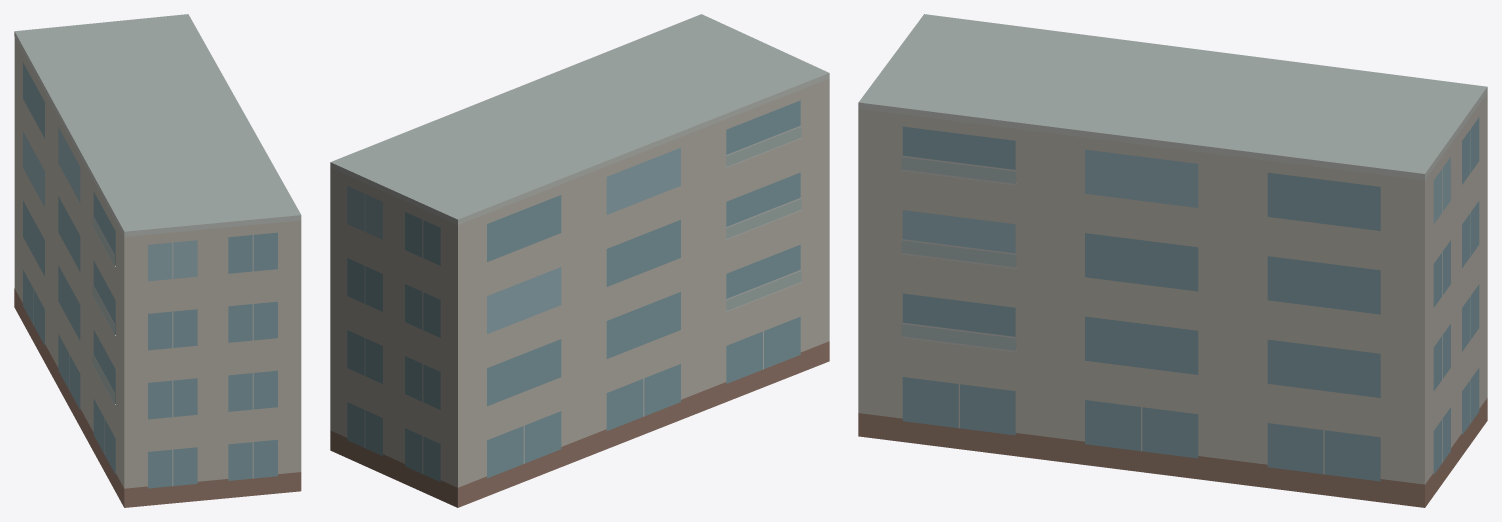
The model's file is survey-upis-32955808.glb.
3 views of the same model, side by side, from view 1: azimuth 30°, elevation 25°; view 2: azimuth 150°, elevation 25°; view 3: azimuth 270°, elevation 25° (orthographic). The views are drawn at different scales.
Visible parts, largest first — view 1: survey-upis-32955808.tmp; view 2: survey-upis-32955808.tmp; view 3: survey-upis-32955808.tmp.
Boxes of the visible parts, x1,y1,x2,y2 form: survey-upis-32955808.tmp: [14, 14, 301, 507]; survey-upis-32955808.tmp: [330, 14, 829, 507]; survey-upis-32955808.tmp: [858, 14, 1487, 507].
Size of the model in its own units: 13.16 by 12.8 by 21.87.
